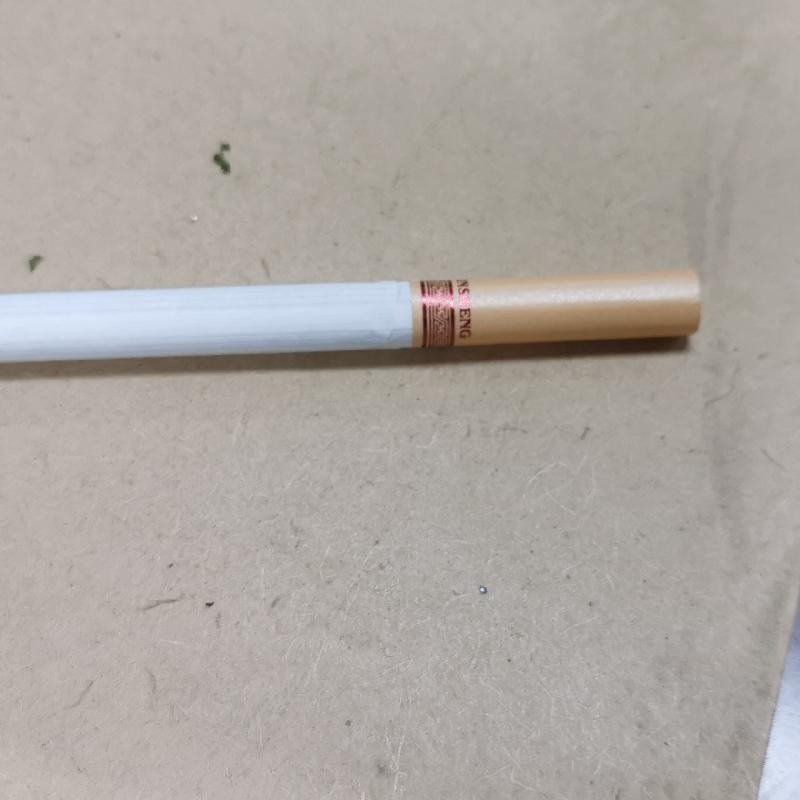cigarette: (0, 268, 714, 363)
